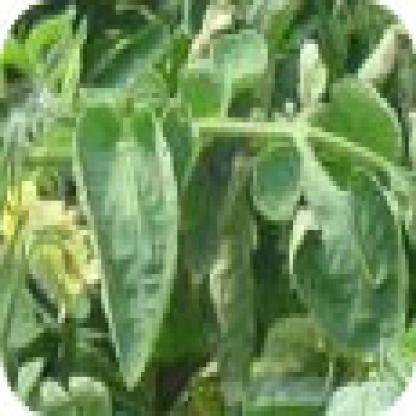tomato mold leaf: (275, 108, 402, 367), (80, 98, 181, 392)
